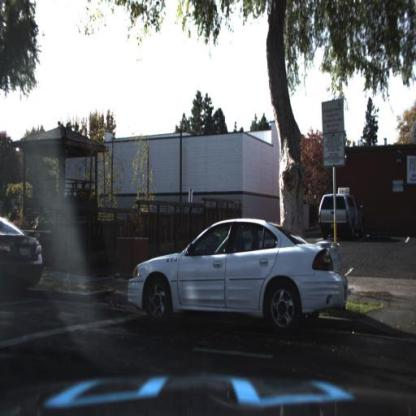car: (121, 210, 352, 343), (1, 204, 50, 296), (319, 195, 363, 239)
